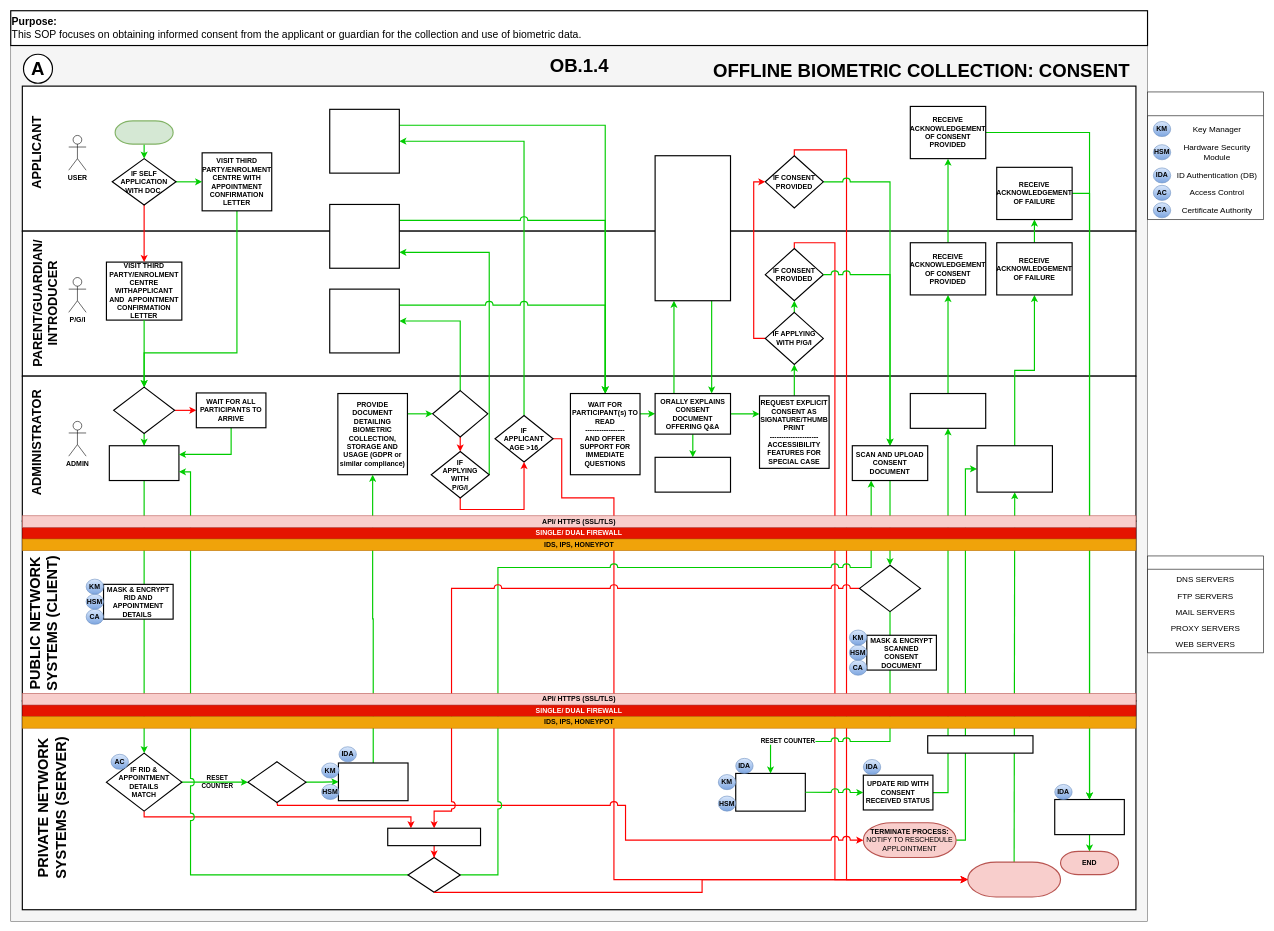
Image size: 1274x931. Some labels were removed from this diagram. The shapes that lost their labels are listed below. From the top down, each one's box as (x1, y1, x2, y2) in pixels, then its label:
(114, 120, 173, 144): START (OFFLINE)
(329, 108, 400, 173): READS THE CONSENT FORM
(1147, 91, 1264, 220): LEGEND
(329, 204, 400, 269): BOTH READ THE CONSENT FORM
(654, 155, 731, 301): PARTICIPANT(s) ENGAGE IN Q&A
(329, 288, 400, 353): P/G/I READS THE CONSENT FORM
(113, 386, 175, 434): IF ALL PARTICIPANTS ARRIVED
(432, 390, 488, 437): IF APPLICANT AGE <5
(909, 393, 986, 429): PRINT ACKNOWLEDGEMENT OF CONSENT RECEIVED
(108, 445, 179, 481): VERIFY TIME, CENTRE AND RID
(654, 456, 731, 492): PROVIDE CONTACT DETAILS FOR FURTHER SUPPORT
(976, 445, 1053, 492): PRINT ACKNOWLEDGEMENT OF FAILURE CONSENT PROCESS WITH REASON
(859, 564, 921, 612): IF SCAN SUCCESS
(1147, 555, 1264, 653): PUBLIC NETWORK
(927, 735, 1033, 753): NOTIFICATION GENERATOR
(247, 761, 306, 803): IF ARRIVAL ON/BEFORE TIME
(338, 762, 408, 801): UPDATE ARRIVAL STATUS IN RID ACCOUNT
(735, 773, 806, 811): STORE CONSENT DOCUMENT IN RID ACCOUNT
(387, 827, 481, 846): EXCEPTION AND ERROR HANDLING (COUNTER)
(1054, 799, 1125, 835): LOGS THE PROCESS AND STATUS
(407, 857, 461, 893): IF RETRY COUNT <=3
(967, 861, 1061, 897): TERMINATE PROCESS: WITH ERROR MESSAGE
